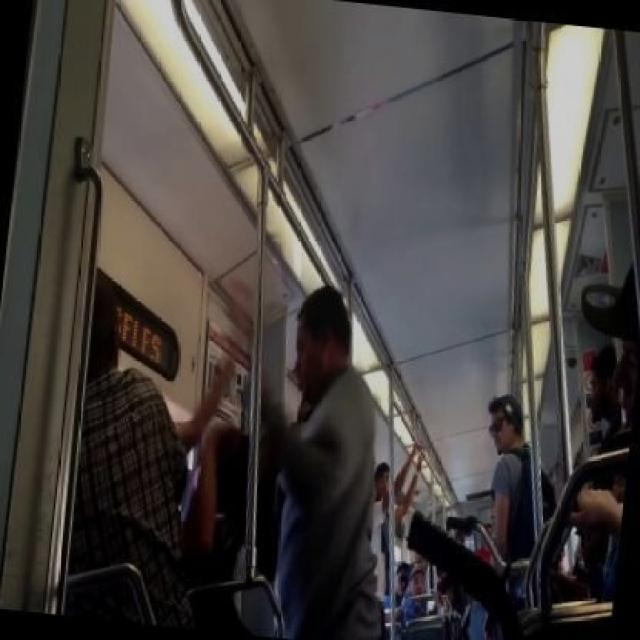fight: (55, 284, 402, 640)
non-fight: (482, 391, 557, 566), (366, 439, 427, 601)
